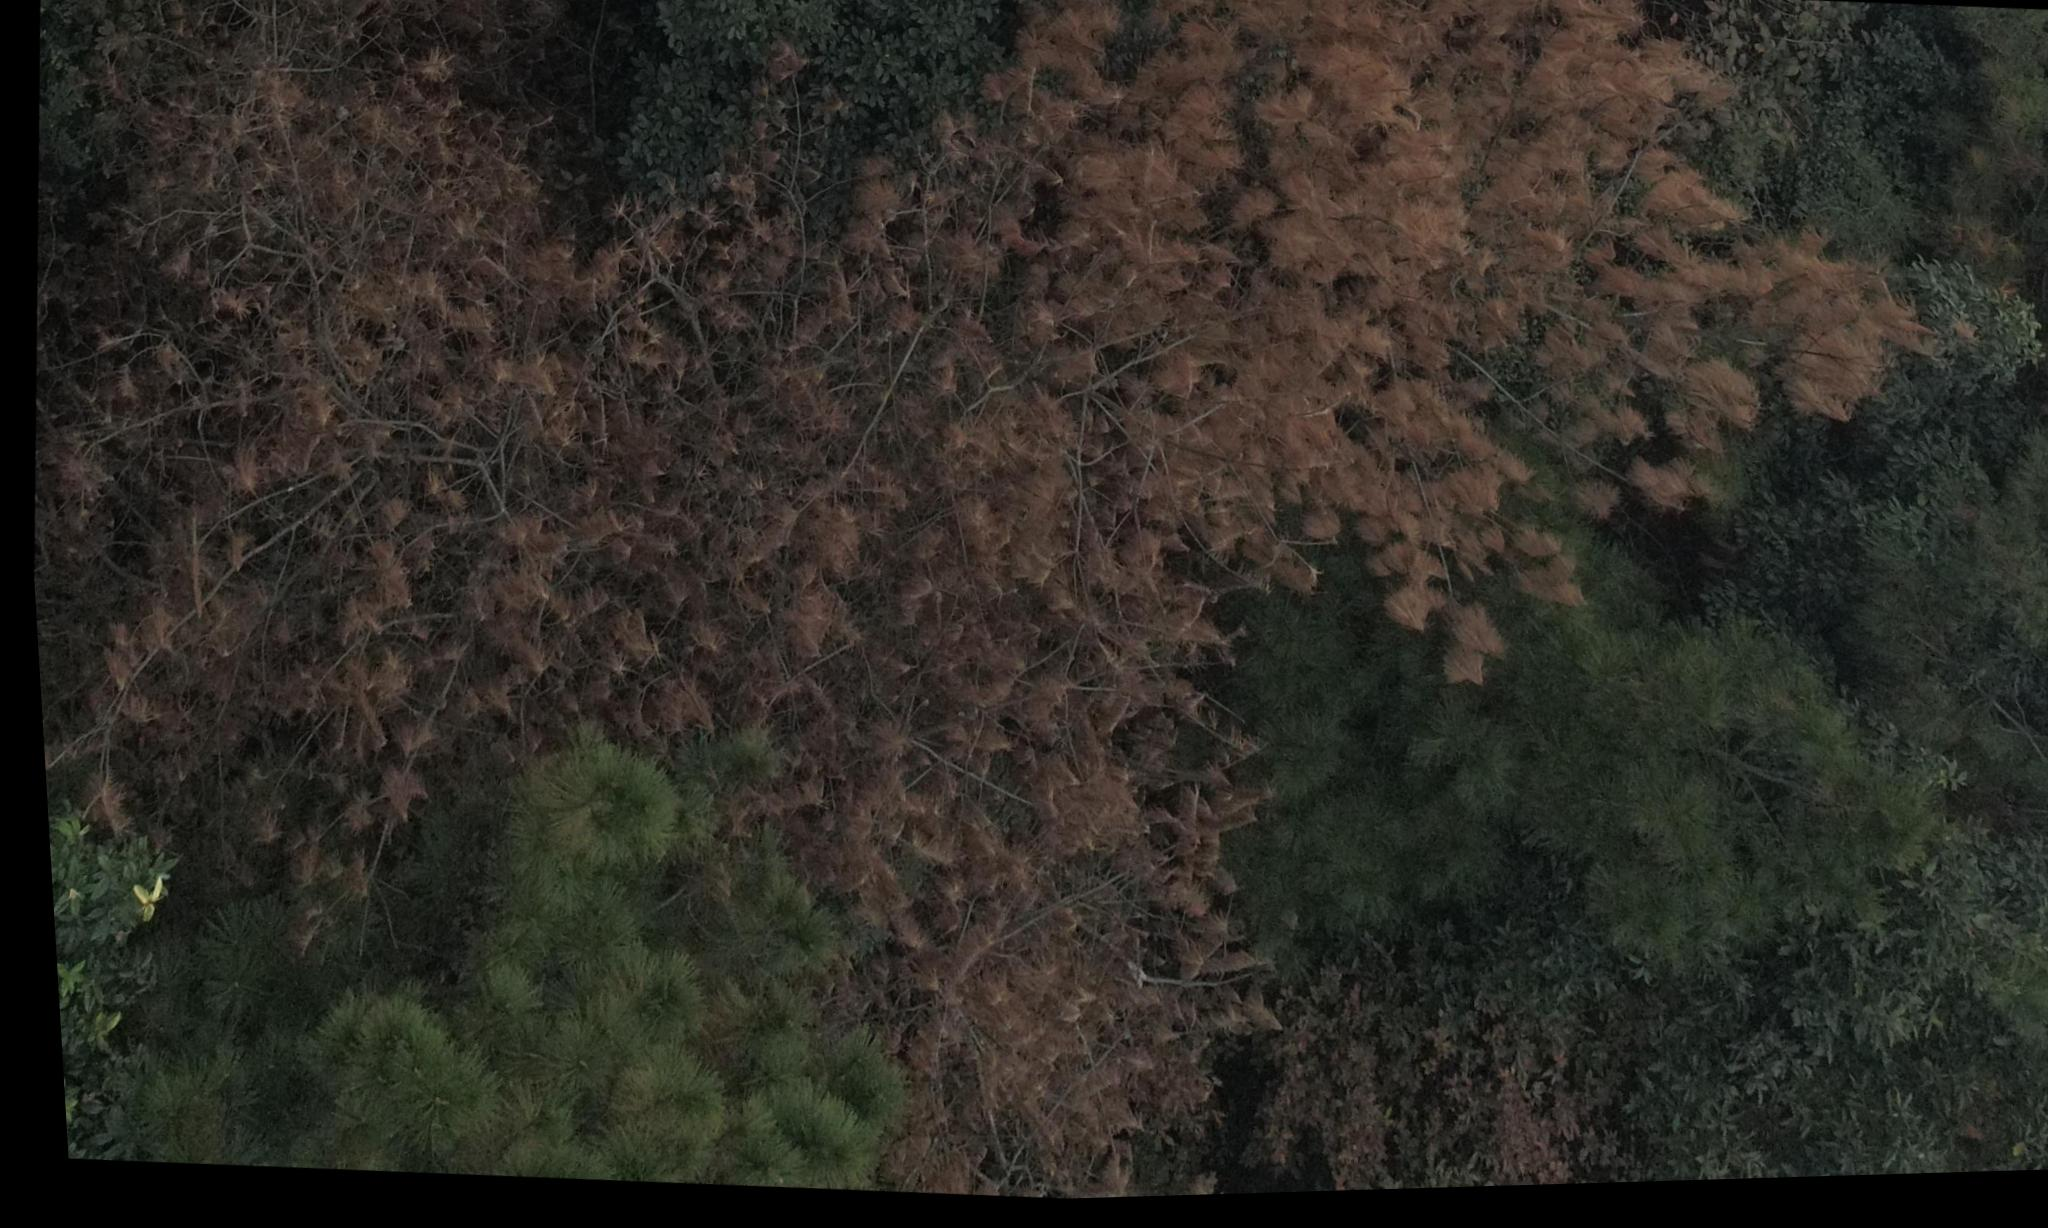heavy: (44, 42, 953, 792), (949, 0, 1931, 691), (782, 792, 1244, 1186)
